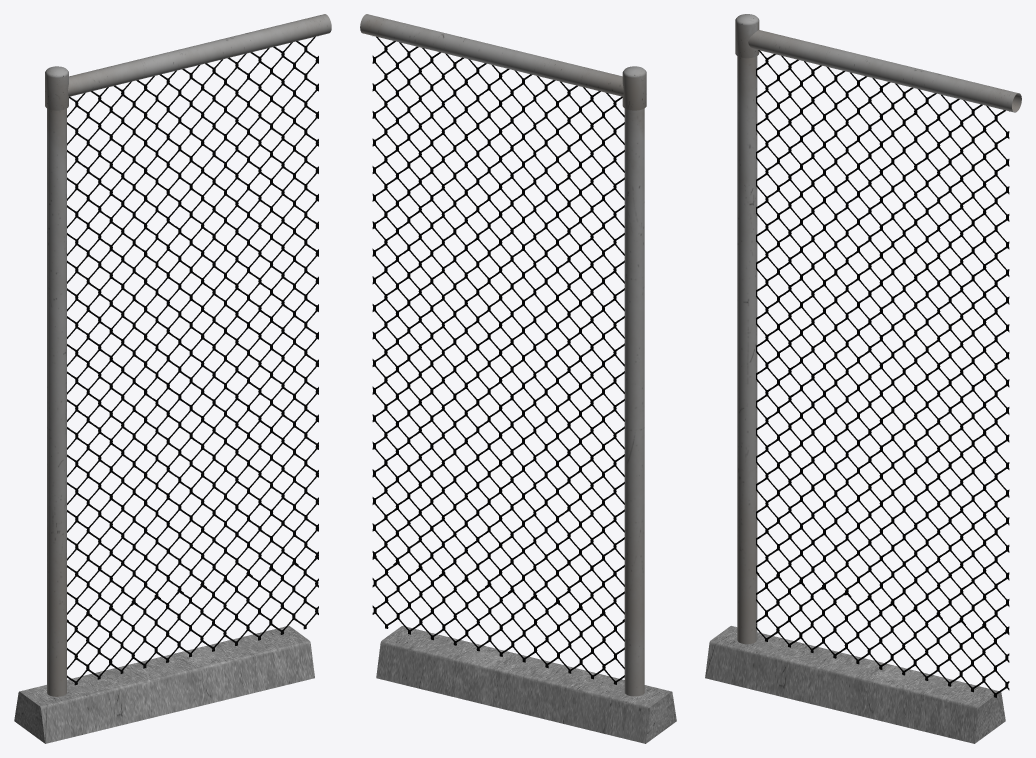
File: chain_curb_straight_short.fbx
3 renders of one model, left to right at view 1: azimuth 30°, elevation 25°; view 2: azimuth 150°, elevation 25°; view 3: azimuth 330°, elevation 25°, orthographic.
Visible parts, largest first — view 1: chain_curb_straight_short; view 2: chain_curb_straight_short; view 3: chain_curb_straight_short.
Part boxes in pixels (left/top/right/bottom): chain_curb_straight_short: left=14, top=14, right=331, bottom=743; chain_curb_straight_short: left=360, top=14, right=676, bottom=743; chain_curb_straight_short: left=705, top=14, right=1021, bottom=743.
Size of the model in its own units: 1.1 by 2.33 by 0.2.
Materials: 2 (2 with a texture image).
